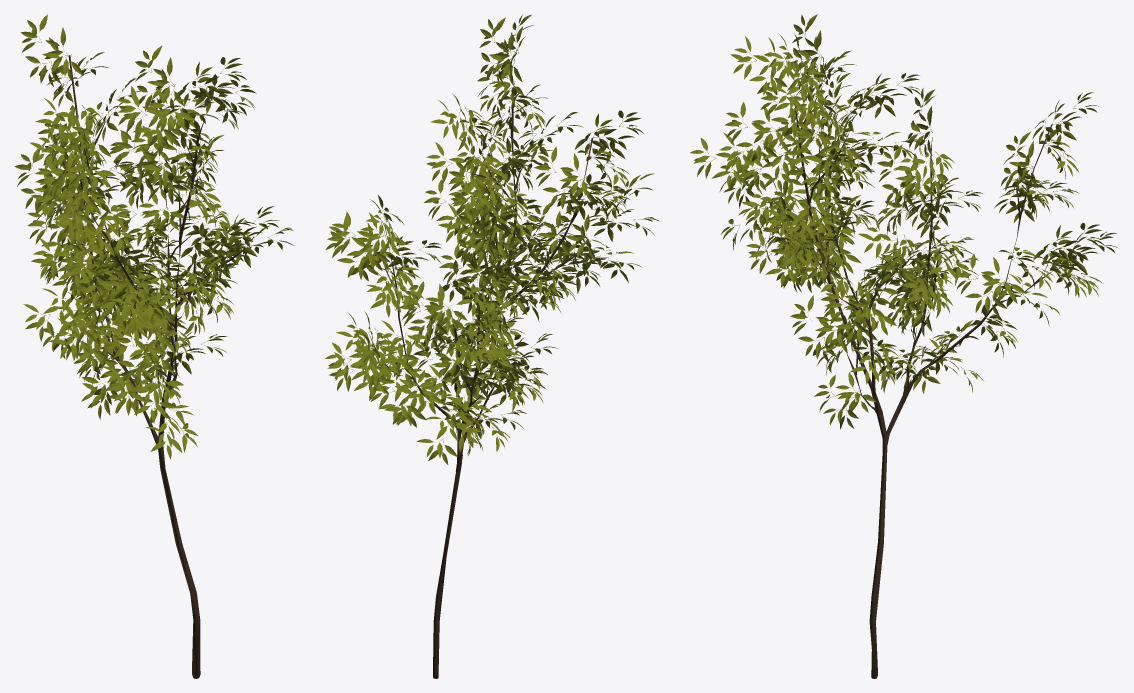
Rendered from tree.glb.
The picture shows the model from 3 angles, left to right: view 1: azimuth 30°, elevation 25°; view 2: azimuth 150°, elevation 25°; view 3: azimuth 270°, elevation 25°; orthographic projection. The views are drawn at different scales.
Visible parts, largest first — view 1: Object_6, Object_4; view 2: Object_6, Object_4; view 3: Object_6, Object_4.
Part boxes in pixels (box(x1,y1,x2,y2)): Object_6: box(14, 14, 293, 459); Object_4: box(68, 55, 247, 678); Object_6: box(325, 14, 659, 464); Object_4: box(369, 83, 607, 678); Object_6: box(690, 14, 1118, 429); Object_4: box(779, 57, 1052, 678).
Size of the model in its own units: 3.92 by 10.54 by 6.48.
